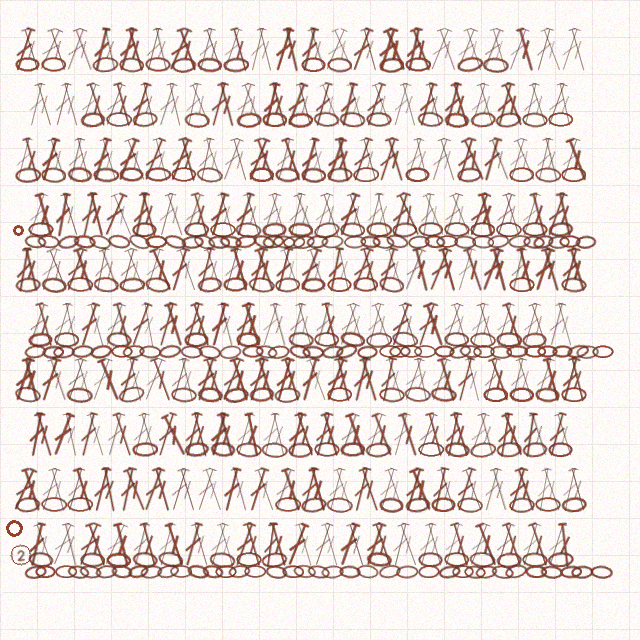chain: (117, 384, 146, 405), (313, 220, 341, 240), (456, 55, 484, 74), (391, 330, 419, 349), (14, 385, 42, 404), (378, 275, 405, 294), (339, 330, 366, 349), (157, 550, 184, 569), (469, 441, 497, 459), (300, 496, 328, 514), (127, 232, 152, 252), (192, 232, 217, 252), (495, 111, 522, 129), (196, 166, 223, 184), (144, 276, 171, 294), (248, 276, 275, 294), (209, 551, 236, 569), (261, 551, 288, 569), (334, 342, 359, 361), (41, 276, 67, 294), (223, 386, 249, 404), (405, 496, 431, 514), (92, 56, 119, 73), (313, 111, 340, 128), (339, 111, 366, 128), (417, 111, 444, 128), (404, 386, 431, 403), (430, 386, 457, 403), (469, 551, 496, 568), (547, 551, 574, 568), (80, 111, 106, 128), (132, 111, 158, 128), (470, 111, 496, 128), (67, 166, 93, 183), (548, 221, 574, 238), (93, 276, 119, 293), (197, 276, 223, 293), (106, 331, 132, 348), (288, 331, 314, 348), (197, 386, 223, 403), (249, 386, 275, 403), (184, 441, 210, 458), (210, 441, 236, 458), (444, 441, 470, 458), (496, 441, 522, 458), (522, 441, 548, 458), (15, 496, 41, 513), (561, 496, 587, 513), (28, 551, 54, 568), (132, 551, 158, 568), (366, 551, 392, 568), (482, 57, 509, 73), (235, 222, 262, 238), (57, 233, 81, 251), (88, 233, 112, 251), (163, 233, 187, 251), (252, 233, 276, 251), (288, 343, 312, 361), (66, 387, 93, 403), (274, 387, 301, 403), (261, 442, 288, 458), (365, 442, 392, 458), (326, 497, 353, 513), (171, 57, 197, 73), (223, 57, 249, 73), (184, 112, 210, 128), (236, 112, 262, 128), (444, 112, 470, 128), (522, 112, 548, 128), (15, 167, 41, 183), (93, 167, 119, 183), (327, 167, 353, 183), (456, 167, 482, 183), (535, 167, 561, 183), (15, 277, 41, 293), (119, 277, 145, 293), (561, 277, 587, 293), (366, 332, 392, 348), (470, 332, 496, 348), (171, 387, 197, 403), (379, 387, 405, 403), (236, 442, 262, 458), (457, 497, 483, 513), (509, 497, 535, 513), (496, 552, 522, 568), (522, 552, 548, 568), (107, 233, 131, 250), (234, 233, 258, 250), (385, 233, 409, 250), (89, 343, 113, 360), (158, 343, 182, 360), (448, 343, 472, 360), (566, 343, 590, 360), (156, 563, 180, 580), (186, 563, 210, 580), (378, 563, 402, 580), (504, 563, 528, 580), (119, 57, 144, 73), (197, 57, 222, 73), (327, 57, 352, 73), (379, 57, 404, 73), (288, 112, 313, 128), (41, 167, 66, 183), (275, 167, 300, 183), (301, 167, 326, 183), (262, 222, 287, 238), (288, 222, 313, 238), (340, 222, 365, 238), (392, 222, 417, 238), (275, 277, 300, 293), (301, 277, 326, 293), (28, 332, 53, 348), (522, 332, 547, 348), (535, 387, 560, 403), (288, 442, 313, 458), (379, 497, 404, 513), (80, 552, 105, 568), (106, 552, 131, 568), (532, 233, 555, 250), (127, 563, 150, 580), (145, 57, 171, 72), (405, 57, 431, 72), (106, 112, 132, 127), (366, 112, 392, 127), (145, 167, 171, 182), (353, 167, 379, 182), (28, 222, 54, 237), (210, 222, 236, 237), (366, 222, 392, 237), (444, 222, 470, 237), (496, 222, 522, 237), (522, 222, 548, 237), (67, 277, 93, 292), (509, 277, 535, 292), (496, 332, 522, 347), (561, 387, 587, 402), (132, 442, 158, 457), (314, 442, 340, 457), (418, 442, 444, 457), (41, 497, 67, 512), (67, 497, 93, 512), (275, 497, 301, 512), (535, 497, 561, 512), (236, 552, 262, 567), (292, 234, 316, 250), (321, 344, 345, 360), (15, 57, 40, 72), (41, 57, 66, 72), (301, 57, 326, 72), (262, 112, 287, 127), (548, 112, 573, 127), (119, 167, 144, 182), (171, 167, 196, 182), (249, 167, 274, 182), (405, 167, 430, 182), (509, 167, 534, 182), (561, 167, 586, 182), (132, 222, 157, 237), (184, 222, 209, 237), (418, 222, 443, 237), (470, 222, 495, 237), (223, 277, 248, 292), (327, 277, 352, 292), (353, 277, 378, 292), (54, 332, 79, 347), (184, 332, 209, 347), (236, 332, 261, 347), (314, 332, 339, 347), (444, 332, 469, 347), (327, 387, 352, 402), (483, 387, 508, 402), (509, 387, 534, 402), (340, 442, 365, 457), (548, 442, 573, 457), (431, 497, 456, 512), (418, 552, 443, 567), (444, 552, 469, 567), (219, 234, 242, 250), (372, 234, 395, 250), (198, 344, 221, 360), (219, 344, 242, 360), (255, 344, 278, 360), (267, 344, 290, 360), (24, 564, 47, 580), (67, 564, 90, 580), (79, 564, 102, 580), (140, 564, 163, 580), (265, 564, 288, 580), (307, 564, 330, 580), (438, 564, 461, 580), (475, 564, 498, 580), (491, 564, 514, 580), (24, 234, 47, 249), (37, 234, 60, 249), (73, 234, 96, 249), (262, 234, 285, 249), (306, 234, 329, 249), (321, 234, 344, 249), (487, 234, 510, 249), (508, 234, 531, 249), (24, 344, 47, 359), (71, 344, 94, 359), (122, 344, 145, 359), (459, 344, 482, 359), (95, 564, 118, 579), (228, 564, 251, 579), (293, 564, 316, 579), (356, 564, 379, 579), (424, 234, 446, 249), (111, 564, 133, 579), (202, 564, 224, 579), (181, 235, 204, 249), (180, 345, 203, 359), (576, 345, 599, 359), (321, 565, 344, 579), (540, 565, 563, 579), (590, 565, 613, 579), (208, 235, 230, 249), (273, 235, 295, 249), (283, 235, 305, 249), (344, 235, 366, 249), (408, 235, 430, 249), (454, 235, 476, 249), (472, 235, 494, 249), (523, 235, 545, 249), (548, 235, 570, 249), (575, 235, 597, 249), (42, 345, 64, 359), (53, 345, 75, 359), (139, 345, 161, 359), (302, 345, 324, 359), (490, 345, 512, 359), (339, 565, 361, 579), (396, 565, 418, 579), (464, 565, 486, 579), (560, 565, 582, 579), (571, 565, 593, 579), (360, 235, 381, 249), (357, 345, 378, 359), (145, 235, 167, 248), (436, 235, 458, 248), (559, 235, 581, 248), (111, 345, 133, 358), (242, 345, 264, 358), (379, 345, 401, 358), (389, 345, 411, 358), (400, 345, 422, 358), (414, 345, 436, 358), (473, 345, 495, 358), (506, 345, 528, 358), (524, 345, 546, 358), (592, 345, 614, 358), (55, 565, 77, 578), (170, 565, 192, 578), (215, 565, 237, 578), (244, 565, 266, 578), (282, 565, 304, 578), (418, 565, 440, 578), (452, 565, 474, 578), (525, 565, 547, 578), (434, 345, 455, 358), (537, 345, 558, 358), (552, 345, 573, 358), (35, 565, 56, 578)
double: (158, 412, 191, 458), (34, 26, 66, 73), (458, 136, 490, 183), (393, 191, 425, 238), (8, 466, 40, 513), (99, 521, 131, 568), (164, 26, 195, 73), (320, 26, 351, 73), (328, 26, 359, 73), (380, 26, 411, 73), (510, 136, 541, 183), (99, 191, 130, 238), (107, 191, 138, 238), (419, 191, 450, 238), (146, 246, 177, 293), (424, 246, 455, 293), (94, 356, 125, 403), (120, 466, 151, 513), (406, 466, 437, 513), (47, 521, 78, 568), (425, 26, 455, 73), (451, 26, 481, 73), (477, 26, 507, 73), (503, 26, 533, 73), (537, 26, 567, 73), (186, 81, 216, 128), (316, 81, 346, 128), (498, 81, 528, 128), (113, 136, 143, 183), (121, 136, 151, 183), (139, 136, 169, 183), (165, 136, 195, 183), (217, 136, 247, 183), (243, 136, 273, 183), (485, 136, 515, 183), (290, 191, 320, 238), (446, 191, 476, 238), (464, 191, 494, 238), (43, 246, 73, 293), (95, 246, 125, 293), (121, 246, 151, 293), (295, 246, 325, 293), (347, 246, 377, 293), (399, 246, 429, 293), (477, 246, 507, 293), (139, 356, 169, 403), (217, 356, 247, 403), (48, 411, 78, 458), (368, 411, 398, 458), (498, 411, 528, 458), (74, 521, 104, 568), (282, 521, 312, 568), (464, 521, 494, 568), (472, 521, 502, 568), (61, 26, 90, 73), (69, 26, 98, 73), (173, 26, 202, 73), (347, 26, 376, 73), (407, 26, 436, 73), (433, 26, 462, 73), (100, 81, 129, 128), (238, 81, 267, 128), (282, 81, 311, 128), (368, 81, 397, 128), (542, 81, 571, 128), (251, 136, 280, 183), (563, 136, 592, 183), (334, 191, 363, 238), (542, 191, 571, 238), (61, 246, 90, 293), (173, 246, 202, 293), (251, 246, 280, 293), (277, 246, 306, 293), (303, 246, 332, 293), (100, 301, 129, 348), (126, 301, 155, 348), (334, 301, 363, 348), (368, 301, 397, 348), (386, 301, 415, 348), (420, 301, 449, 348), (438, 301, 467, 348), (87, 356, 116, 403), (147, 356, 176, 403), (303, 356, 332, 403), (321, 356, 350, 403), (399, 356, 428, 403), (485, 356, 514, 403), (334, 411, 363, 458), (342, 411, 371, 458), (464, 411, 493, 458), (139, 466, 168, 513), (199, 466, 228, 513), (251, 466, 280, 513), (269, 466, 298, 513), (381, 466, 410, 513), (459, 466, 488, 513), (30, 521, 59, 568), (82, 521, 111, 568), (230, 521, 259, 568), (394, 521, 423, 568), (10, 26, 38, 73), (44, 26, 72, 73), (200, 26, 228, 73), (218, 26, 246, 73), (460, 26, 488, 73), (556, 26, 584, 73), (75, 81, 103, 128), (83, 81, 111, 128), (153, 81, 181, 128), (361, 81, 389, 128), (525, 81, 553, 128), (44, 136, 72, 183), (200, 136, 228, 183), (278, 136, 306, 183), (322, 136, 350, 183), (348, 136, 376, 183), (374, 136, 402, 183), (400, 136, 428, 183), (426, 136, 454, 183), (556, 136, 584, 183), (23, 191, 51, 238), (161, 191, 189, 238), (179, 191, 207, 238), (309, 191, 337, 238), (317, 191, 345, 238), (491, 191, 519, 238), (36, 246, 64, 293), (70, 246, 98, 293), (200, 246, 228, 293), (460, 246, 488, 293), (530, 246, 558, 293), (23, 301, 51, 348), (75, 301, 103, 348), (187, 301, 215, 348), (395, 301, 423, 348), (413, 301, 441, 348), (499, 301, 527, 348), (525, 301, 553, 348), (10, 356, 38, 403), (36, 356, 64, 403), (44, 356, 72, 403), (62, 356, 90, 403), (192, 356, 220, 403), (200, 356, 228, 403), (226, 356, 254, 403), (252, 356, 280, 403), (426, 356, 454, 403), (530, 356, 558, 403), (109, 411, 137, 458), (291, 411, 319, 458), (361, 411, 389, 458), (395, 411, 423, 458), (413, 411, 441, 458), (525, 411, 553, 458), (18, 466, 46, 513), (36, 466, 64, 513), (192, 466, 220, 513), (244, 466, 272, 513), (278, 466, 306, 513), (330, 466, 358, 513), (356, 466, 384, 513), (512, 466, 540, 513), (538, 466, 566, 513), (161, 521, 189, 568), (309, 521, 337, 568), (335, 521, 363, 568), (361, 521, 389, 568), (369, 521, 397, 568), (499, 521, 527, 568), (525, 521, 553, 568), (18, 26, 45, 73), (114, 26, 141, 73), (122, 26, 149, 73), (270, 26, 297, 73), (304, 26, 331, 73), (374, 26, 401, 73), (486, 26, 513, 73), (31, 81, 58, 128), (127, 81, 154, 128), (231, 81, 258, 128), (343, 81, 370, 128), (447, 81, 474, 128), (465, 81, 492, 128), (473, 81, 500, 128), (36, 136, 63, 183), (88, 136, 115, 183), (96, 136, 123, 183), (296, 136, 323, 183), (382, 136, 409, 183), (434, 136, 461, 183), (452, 136, 479, 183), (504, 136, 531, 183), (57, 191, 84, 238), (205, 191, 232, 238), (231, 191, 258, 238), (257, 191, 284, 238), (265, 191, 292, 238), (343, 191, 370, 238), (387, 191, 414, 238), (439, 191, 466, 238), (499, 191, 526, 238), (517, 191, 544, 238), (140, 246, 167, 293), (166, 246, 193, 293), (382, 246, 409, 293), (452, 246, 479, 293), (538, 246, 565, 293), (564, 246, 591, 293), (49, 301, 76, 348), (161, 301, 188, 348), (231, 301, 258, 348), (239, 301, 266, 348), (257, 301, 284, 348), (343, 301, 370, 348), (447, 301, 474, 348), (473, 301, 500, 348), (491, 301, 518, 348), (166, 356, 193, 403), (244, 356, 271, 403), (278, 356, 305, 403), (356, 356, 383, 403), (382, 356, 409, 403), (434, 356, 461, 403), (512, 356, 539, 403), (31, 411, 58, 458), (83, 411, 110, 458), (135, 411, 162, 458), (153, 411, 180, 458), (231, 411, 258, 458), (317, 411, 344, 458), (447, 411, 474, 458), (551, 411, 578, 458), (62, 466, 89, 513), (70, 466, 97, 513), (166, 466, 193, 513), (174, 466, 201, 513), (374, 466, 401, 513), (400, 466, 427, 513), (434, 466, 461, 513), (452, 466, 479, 513), (486, 466, 513, 513), (504, 466, 531, 513), (205, 521, 232, 568), (213, 521, 240, 568), (265, 521, 292, 568), (343, 521, 370, 568), (439, 521, 466, 568), (447, 521, 474, 568), (491, 521, 518, 568), (517, 521, 544, 568), (543, 521, 570, 568), (193, 26, 219, 73), (227, 26, 253, 73), (357, 26, 383, 73), (513, 26, 539, 73), (531, 26, 557, 73), (565, 26, 591, 73), (58, 81, 84, 128), (110, 81, 136, 128), (206, 81, 232, 128), (214, 81, 240, 128), (266, 81, 292, 128), (292, 81, 318, 128), (310, 81, 336, 128), (388, 81, 414, 128), (396, 81, 422, 128), (414, 81, 440, 128), (492, 81, 518, 128), (19, 136, 45, 183), (175, 136, 201, 183), (227, 136, 253, 183), (271, 136, 297, 183), (357, 136, 383, 183), (479, 136, 505, 183), (32, 191, 58, 238), (136, 191, 162, 238), (154, 191, 180, 238), (188, 191, 214, 238), (214, 191, 240, 238), (240, 191, 266, 238), (526, 191, 552, 238), (115, 246, 141, 293), (219, 246, 245, 293), (227, 246, 253, 293), (245, 246, 271, 293), (357, 246, 383, 293), (375, 246, 401, 293), (435, 246, 461, 293), (557, 246, 583, 293), (32, 301, 58, 348), (84, 301, 110, 348), (110, 301, 136, 348), (154, 301, 180, 348), (180, 301, 206, 348), (206, 301, 232, 348), (266, 301, 292, 348), (292, 301, 318, 348), (310, 301, 336, 348), (362, 301, 388, 348), (466, 301, 492, 348), (518, 301, 544, 348), (552, 301, 578, 348), (71, 356, 97, 403), (115, 356, 141, 403), (271, 356, 297, 403), (297, 356, 323, 403), (539, 356, 565, 403), (557, 356, 583, 403), (102, 411, 128, 458), (206, 411, 232, 458), (310, 411, 336, 458), (388, 411, 414, 458), (422, 411, 448, 458), (474, 411, 500, 458), (544, 411, 570, 458), (45, 466, 71, 513), (149, 466, 175, 513), (227, 466, 253, 513), (305, 466, 331, 513), (323, 466, 349, 513), (479, 466, 505, 513), (565, 466, 591, 513), (136, 521, 162, 568), (180, 521, 206, 568), (188, 521, 214, 568), (240, 521, 266, 568), (292, 521, 318, 568), (318, 521, 344, 568), (414, 521, 440, 568), (422, 521, 448, 568), (89, 26, 114, 73), (141, 26, 166, 73), (149, 26, 174, 73), (245, 26, 270, 73), (253, 26, 278, 73), (297, 26, 322, 73), (24, 81, 49, 128), (50, 81, 75, 128), (336, 81, 361, 128), (422, 81, 447, 128), (440, 81, 465, 128), (518, 81, 543, 128), (11, 136, 36, 183), (63, 136, 88, 183), (71, 136, 96, 183), (149, 136, 174, 183), (539, 136, 564, 183), (84, 191, 109, 238), (284, 191, 309, 238), (362, 191, 387, 238), (19, 246, 44, 293), (193, 246, 218, 293), (271, 246, 296, 293), (409, 246, 434, 293), (487, 246, 512, 293), (513, 246, 538, 293), (214, 301, 239, 348), (284, 301, 309, 348), (318, 301, 343, 348), (544, 301, 569, 348), (19, 356, 44, 403), (123, 356, 148, 403), (175, 356, 200, 403), (331, 356, 356, 403), (349, 356, 374, 403), (453, 356, 478, 403), (461, 356, 486, 403), (479, 356, 504, 403), (505, 356, 530, 403), (565, 356, 590, 403), (76, 411, 101, 458), (128, 411, 153, 458), (180, 411, 205, 458), (188, 411, 213, 458), (214, 411, 239, 458), (258, 411, 283, 458), (284, 411, 309, 458), (89, 466, 114, 513), (219, 466, 244, 513), (297, 466, 322, 513), (349, 466, 374, 513), (58, 521, 83, 568), (110, 521, 135, 568), (128, 521, 153, 568), (154, 521, 179, 568), (388, 521, 413, 568), (98, 26, 122, 73), (280, 26, 304, 73), (402, 26, 426, 73), (137, 81, 161, 128), (163, 81, 187, 128), (181, 81, 205, 128), (259, 81, 283, 128), (553, 81, 577, 128), (194, 136, 218, 183), (306, 136, 330, 183), (410, 136, 434, 183), (532, 136, 556, 183), (77, 191, 101, 238), (129, 191, 153, 238), (371, 191, 395, 238), (475, 191, 499, 238), (553, 191, 577, 238), (332, 246, 356, 293), (506, 246, 530, 293), (59, 301, 83, 348), (376, 356, 400, 403), (410, 356, 434, 403), (59, 411, 83, 458), (267, 411, 291, 458), (441, 411, 465, 458), (116, 466, 140, 513), (428, 466, 452, 513), (558, 466, 582, 513), (25, 521, 49, 568), (332, 136, 355, 183), (90, 246, 113, 293), (324, 246, 347, 293), (25, 411, 48, 458), (241, 411, 264, 458), (98, 466, 121, 513), (52, 192, 74, 238), (416, 192, 438, 238), (13, 247, 35, 293), (138, 302, 160, 348), (494, 412, 516, 458), (533, 467, 555, 513), (520, 412, 541, 458), (260, 522, 281, 568), (555, 522, 575, 568)
noise: (8, 542, 34, 568), (3, 517, 25, 539), (11, 223, 25, 237)
